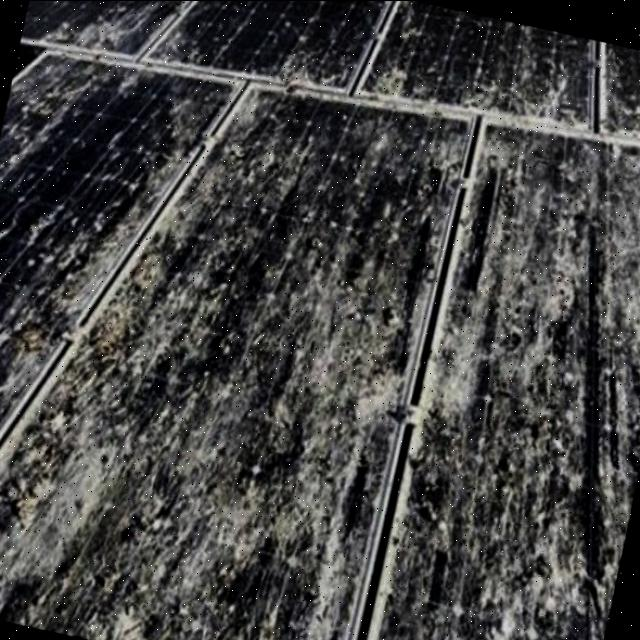Anomaly Solar Panel: (0, 46, 640, 640), (13, 0, 640, 129)
Surface Contaminant: (0, 49, 640, 640), (13, 0, 640, 125)
